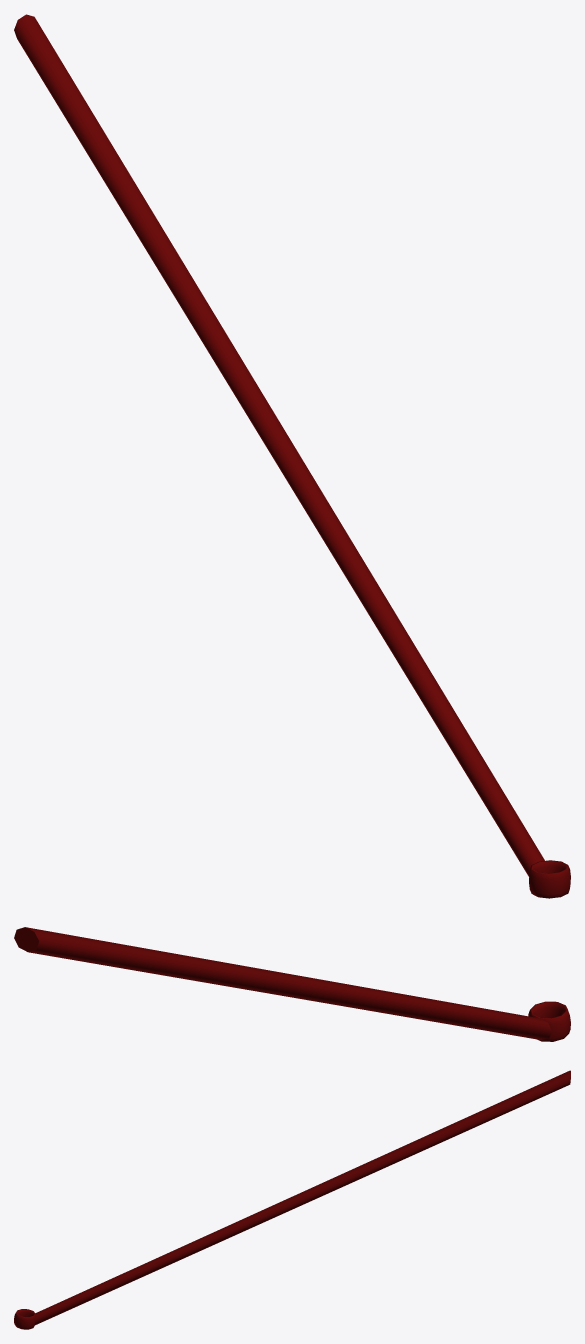
Rendered from 调直工具.FBX.
3 renders of one model, top to bottom at view 1: azimuth 30°, elevation 25°; view 2: azimuth 150°, elevation 25°; view 3: azimuth 270°, elevation 25°, orthographic. The views are drawn at different scales.
Visible parts, largest first — view 1: JJ_DiaoZhiGongJu; view 2: JJ_DiaoZhiGongJu; view 3: JJ_DiaoZhiGongJu.
Part boxes in pixels (box(x1,y1,x2,y2)): JJ_DiaoZhiGongJu: box(14, 14, 570, 898); JJ_DiaoZhiGongJu: box(14, 927, 570, 1041); JJ_DiaoZhiGongJu: box(14, 1070, 570, 1329).
Bounding box in the file's own units: 7.23 × 92.87 × 183.
